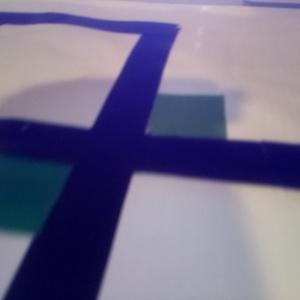top_right: (108, 94, 224, 141)
